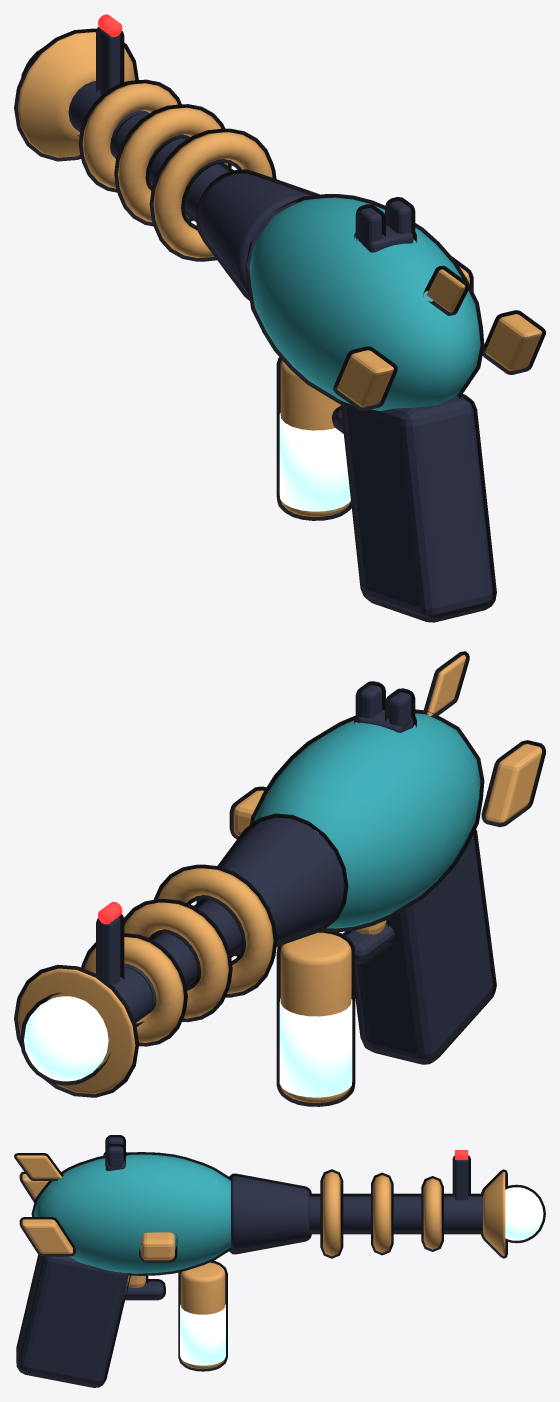
Rendered from arc_gun.glb.
3 renders of one model, top to bottom at view 1: azimuth 30°, elevation 25°; view 2: azimuth 150°, elevation 25°; view 3: azimuth 270°, elevation 25°, orthographic. The views are drawn at different scales.
Visible parts, largest first — view 1: Body, Grip, DishBack, Coil0, Neck, Cell, Coil1, Coil2, Magazine, Barrel, FinL, FinR (+4 smaller); view 2: Body, Grip, Neck, Magazine, DishBack, Coil0, Emitter, Cell, Coil1, Coil2, FinL, Barrel (+6 smaller); view 3: Body, Grip, Neck, Barrel, Magazine, Cell, Emitter, Coil0, Coil1, DishBack, FinR, Coil2 (+6 smaller).
Boxes of the visible parts, box(x1,y1,x2,y2) form: Body: box(245, 194, 484, 410); Grip: box(340, 392, 496, 622); DishBack: box(14, 28, 138, 161); Coil0: box(149, 128, 276, 261); Neck: box(195, 169, 319, 300); Cell: box(279, 413, 350, 511); Coil1: box(114, 104, 231, 226); Coil2: box(78, 79, 181, 192); Magazine: box(276, 357, 351, 520); Barrel: box(68, 81, 233, 221); FinL: box(333, 346, 397, 411); FinR: box(482, 310, 545, 374); Body: box(250, 709, 484, 932); Grip: box(355, 829, 496, 1064); Neck: box(196, 813, 348, 956); Magazine: box(276, 931, 355, 1106); DishBack: box(14, 964, 138, 1097); Coil0: box(154, 864, 277, 997); Emitter: box(20, 992, 110, 1085); Cell: box(279, 998, 352, 1097); Coil1: box(124, 899, 232, 1022); Coil2: box(81, 933, 187, 1046); FinL: box(481, 740, 545, 827); Barrel: box(113, 898, 242, 1026); Body: box(31, 1152, 231, 1275); Grip: box(16, 1254, 131, 1387); Neck: box(229, 1173, 311, 1254); Barrel: box(309, 1193, 483, 1234); Magazine: box(178, 1260, 227, 1371); Cell: box(180, 1304, 225, 1365); Emitter: box(505, 1184, 545, 1243); Coil0: box(320, 1169, 343, 1258); Coil1: box(371, 1172, 393, 1255); DishBack: box(480, 1169, 507, 1258); FinR: box(19, 1217, 75, 1256); Coil2: box(421, 1176, 443, 1251).
Bounding box in the file's own units: 0.1293 × 0.2355 × 0.475.
